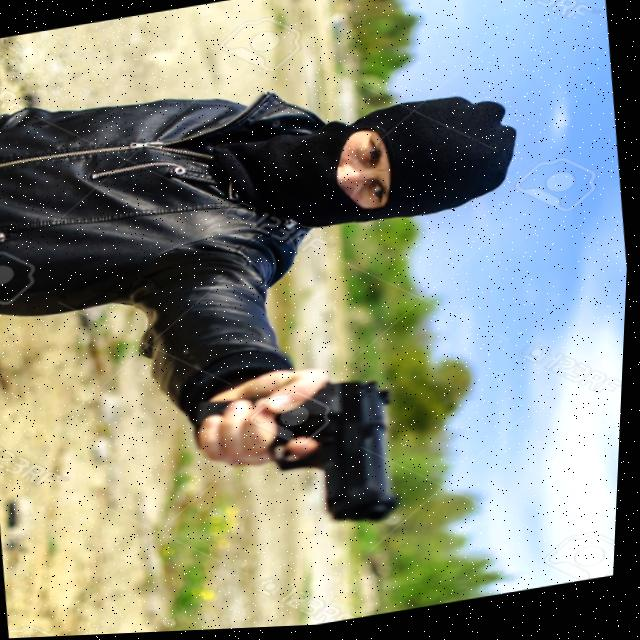pistol: (259, 371, 412, 541)
